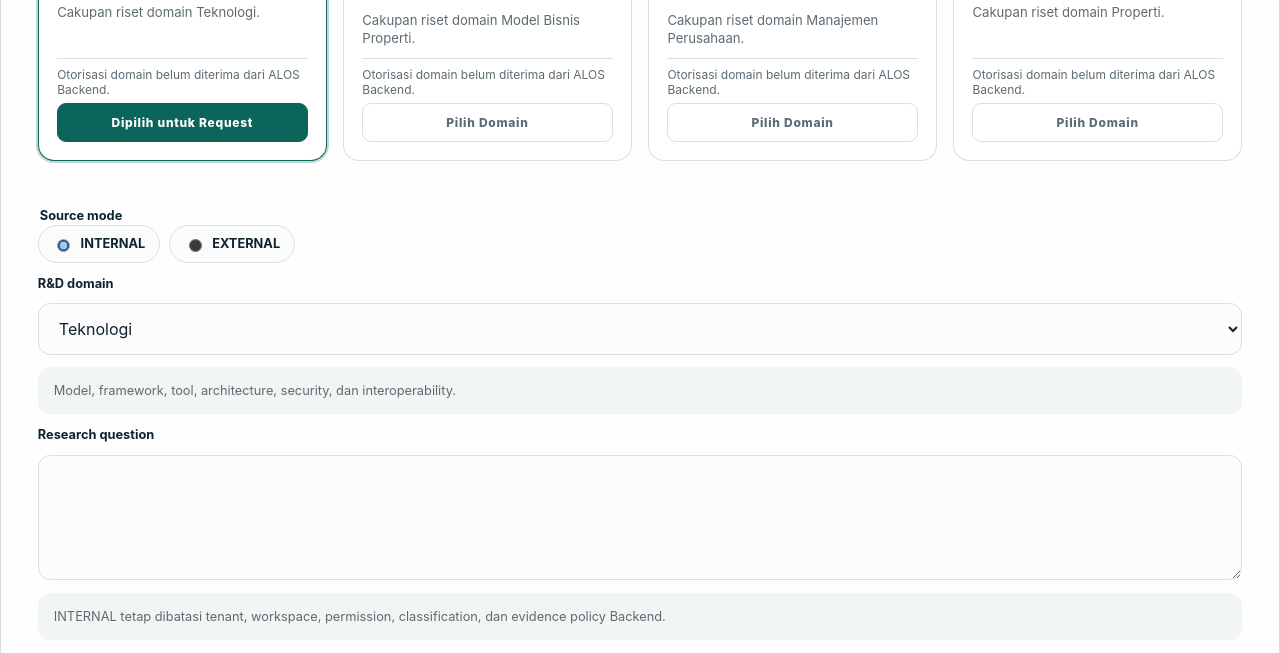
Test: shared R&D workspace › menyediakan tepat empat domain dalam satu selector
(page scrolled)
Select "Model Bisnis Properti" in the dropdown labelled "R&D domain" at (640, 329), box [38, 303, 1242, 355]
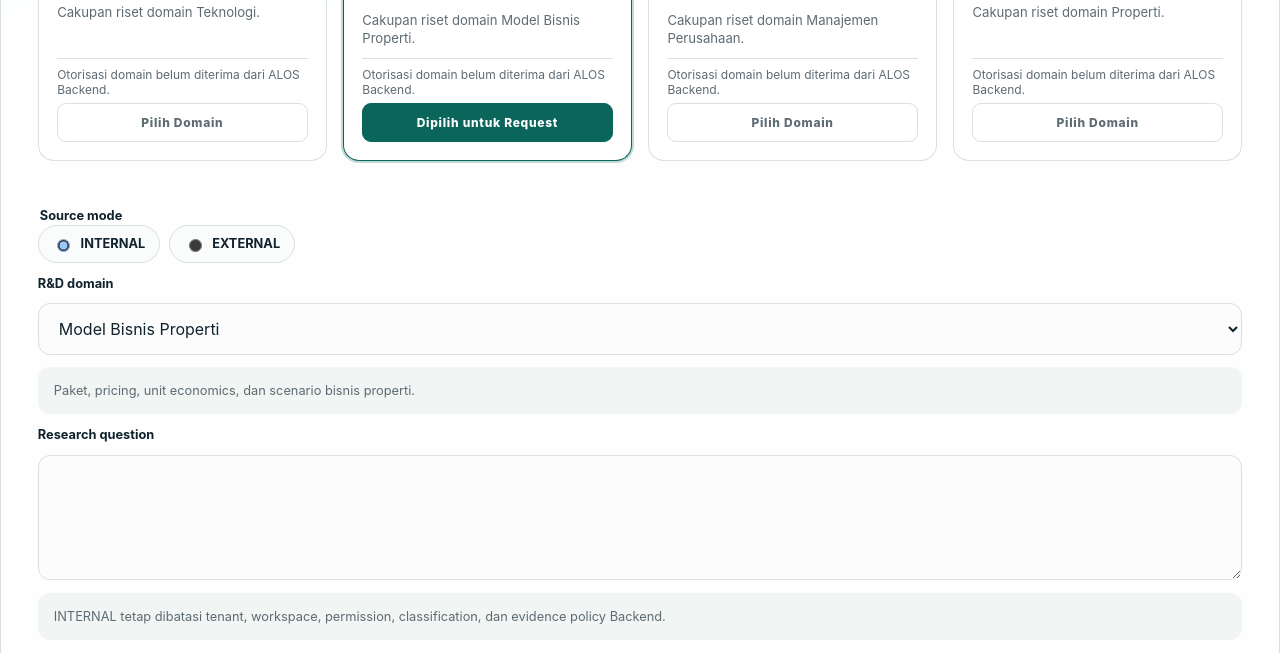
Result: the text "unit economics" is shown at [54, 383, 415, 398]
